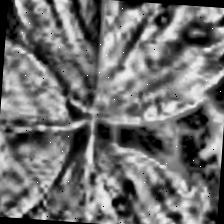Leaf Spot: (1, 0, 224, 133), (0, 128, 222, 224), (0, 23, 81, 221)
